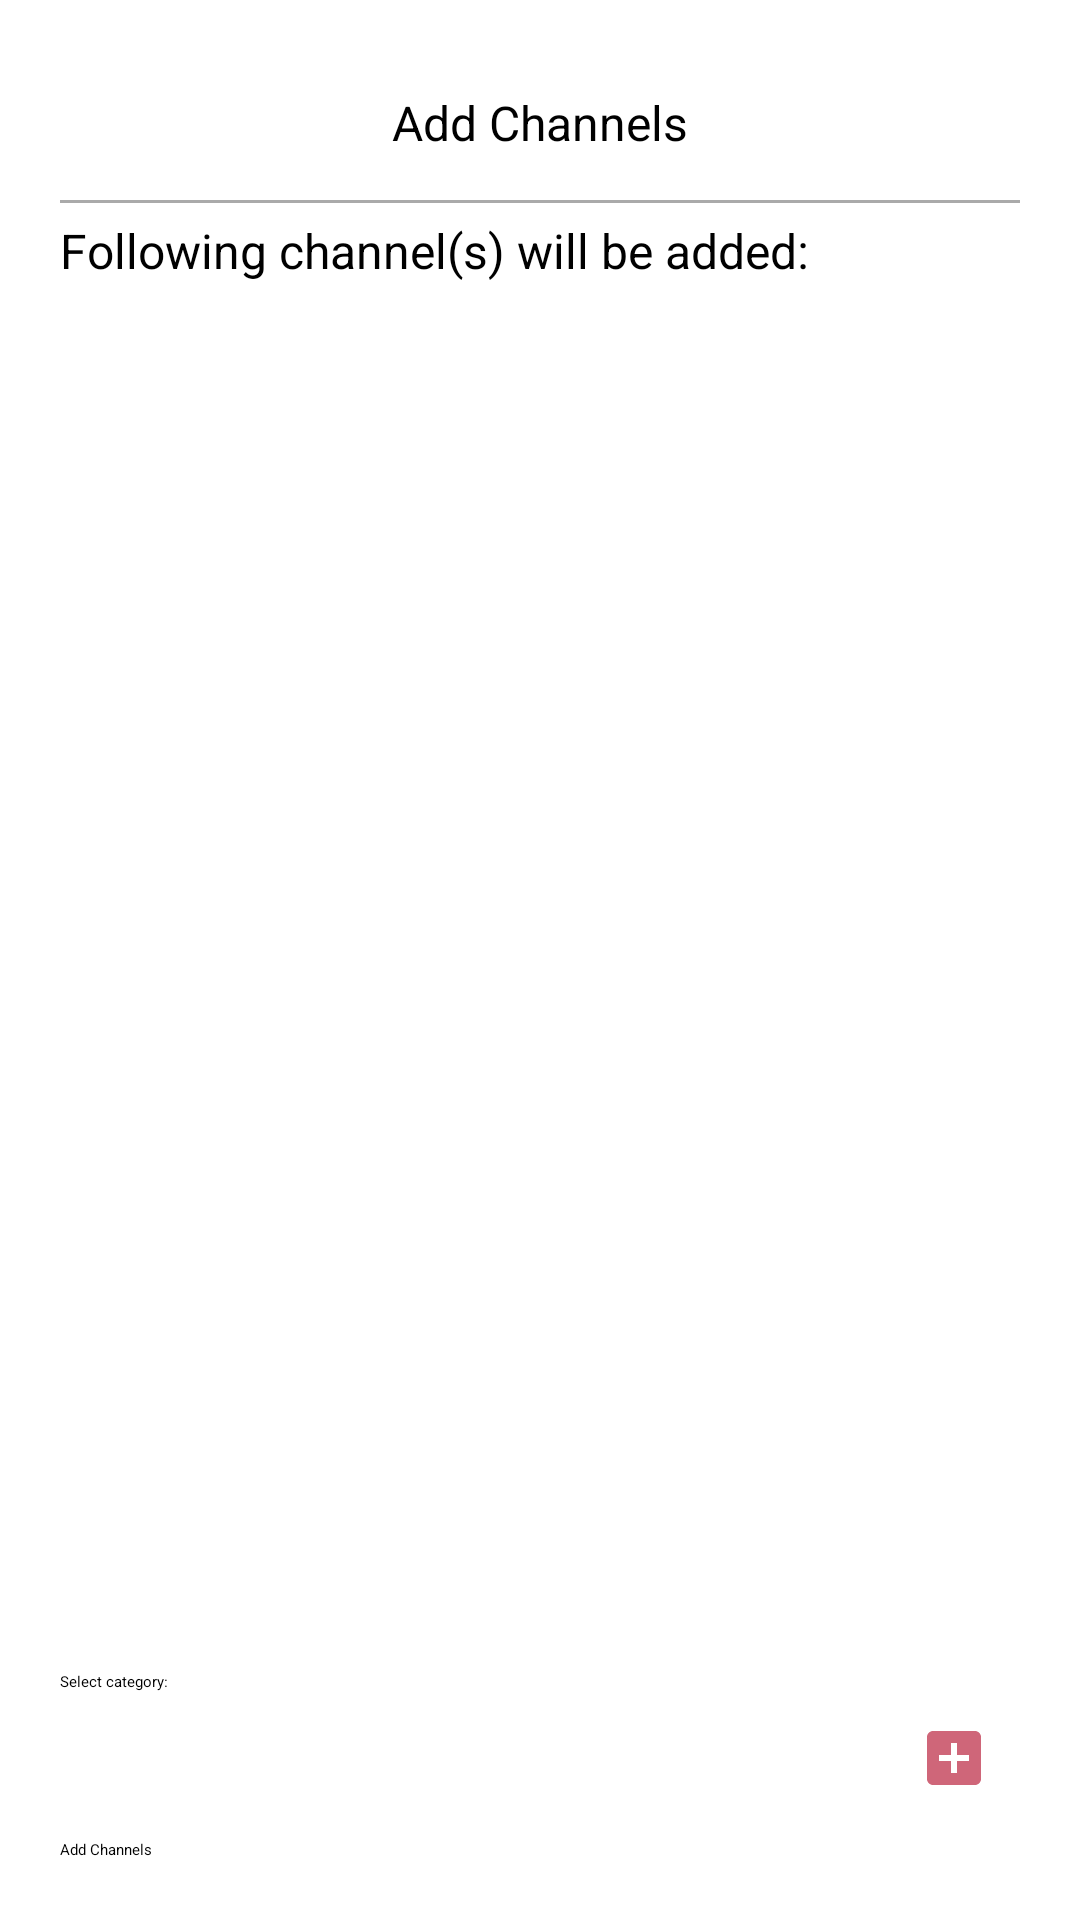

Where icons sit on this 1080w x 1920h app screen, as (x1, y1, x2, y2):
ADD CATEGORY: (927, 1731, 981, 1785)
